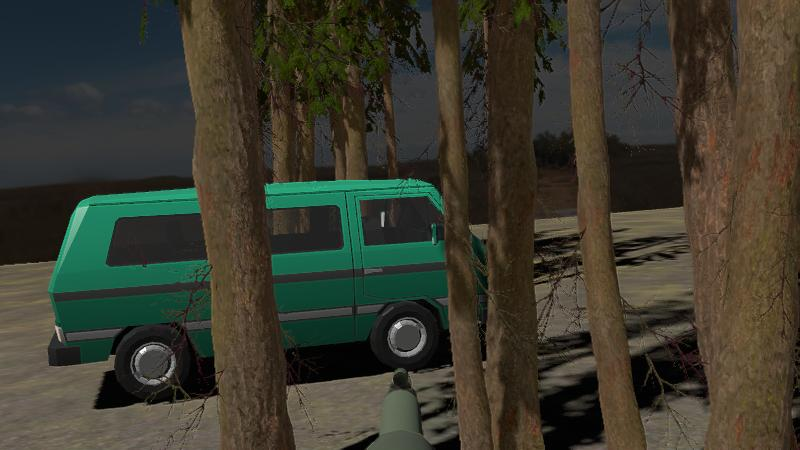car: (49, 180, 464, 397)
